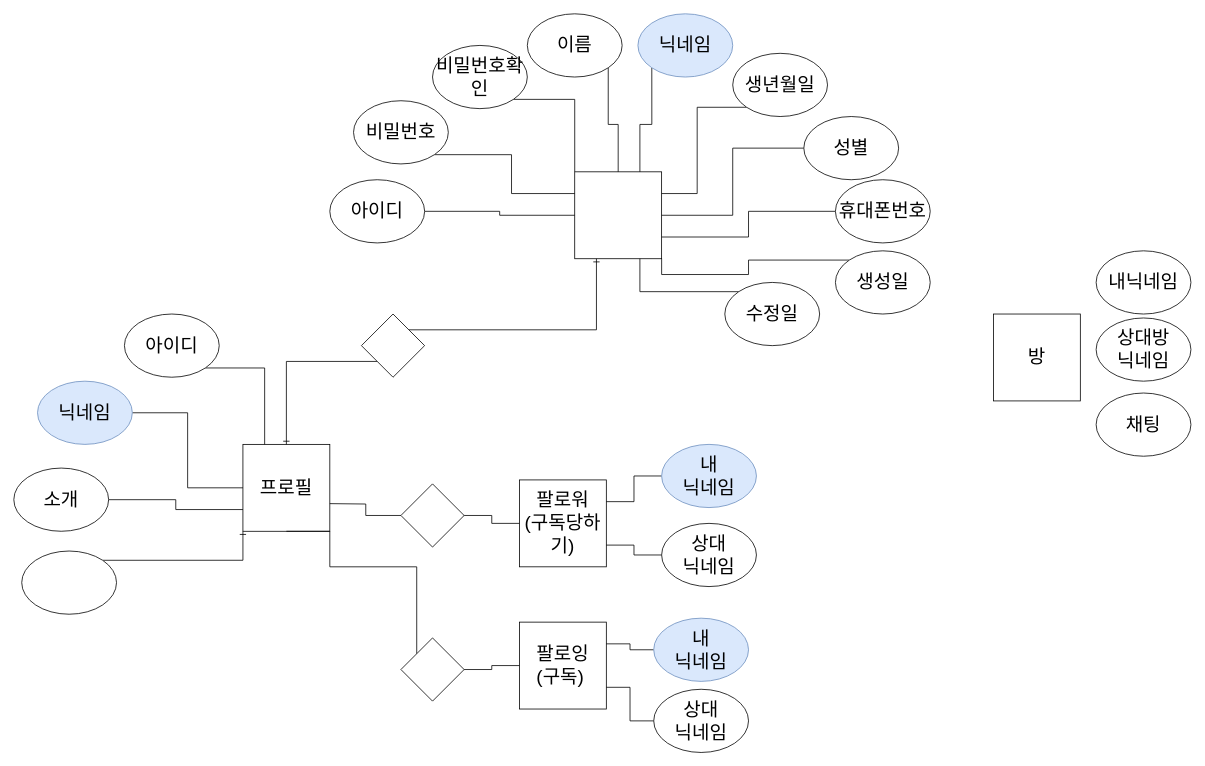
This 1205x766 diagram has some shape labels left out. Each missing label, with the centre of its shape:
"사용자" belongs at point 618,215.
"소속?" belongs at point 393,345.
"프로필사진" belongs at point 69,582.
